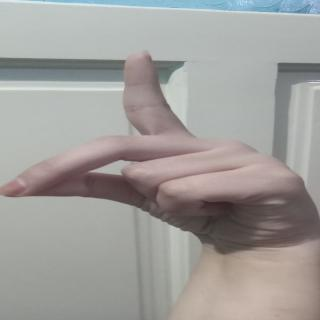TAA: (3, 43, 320, 253)
